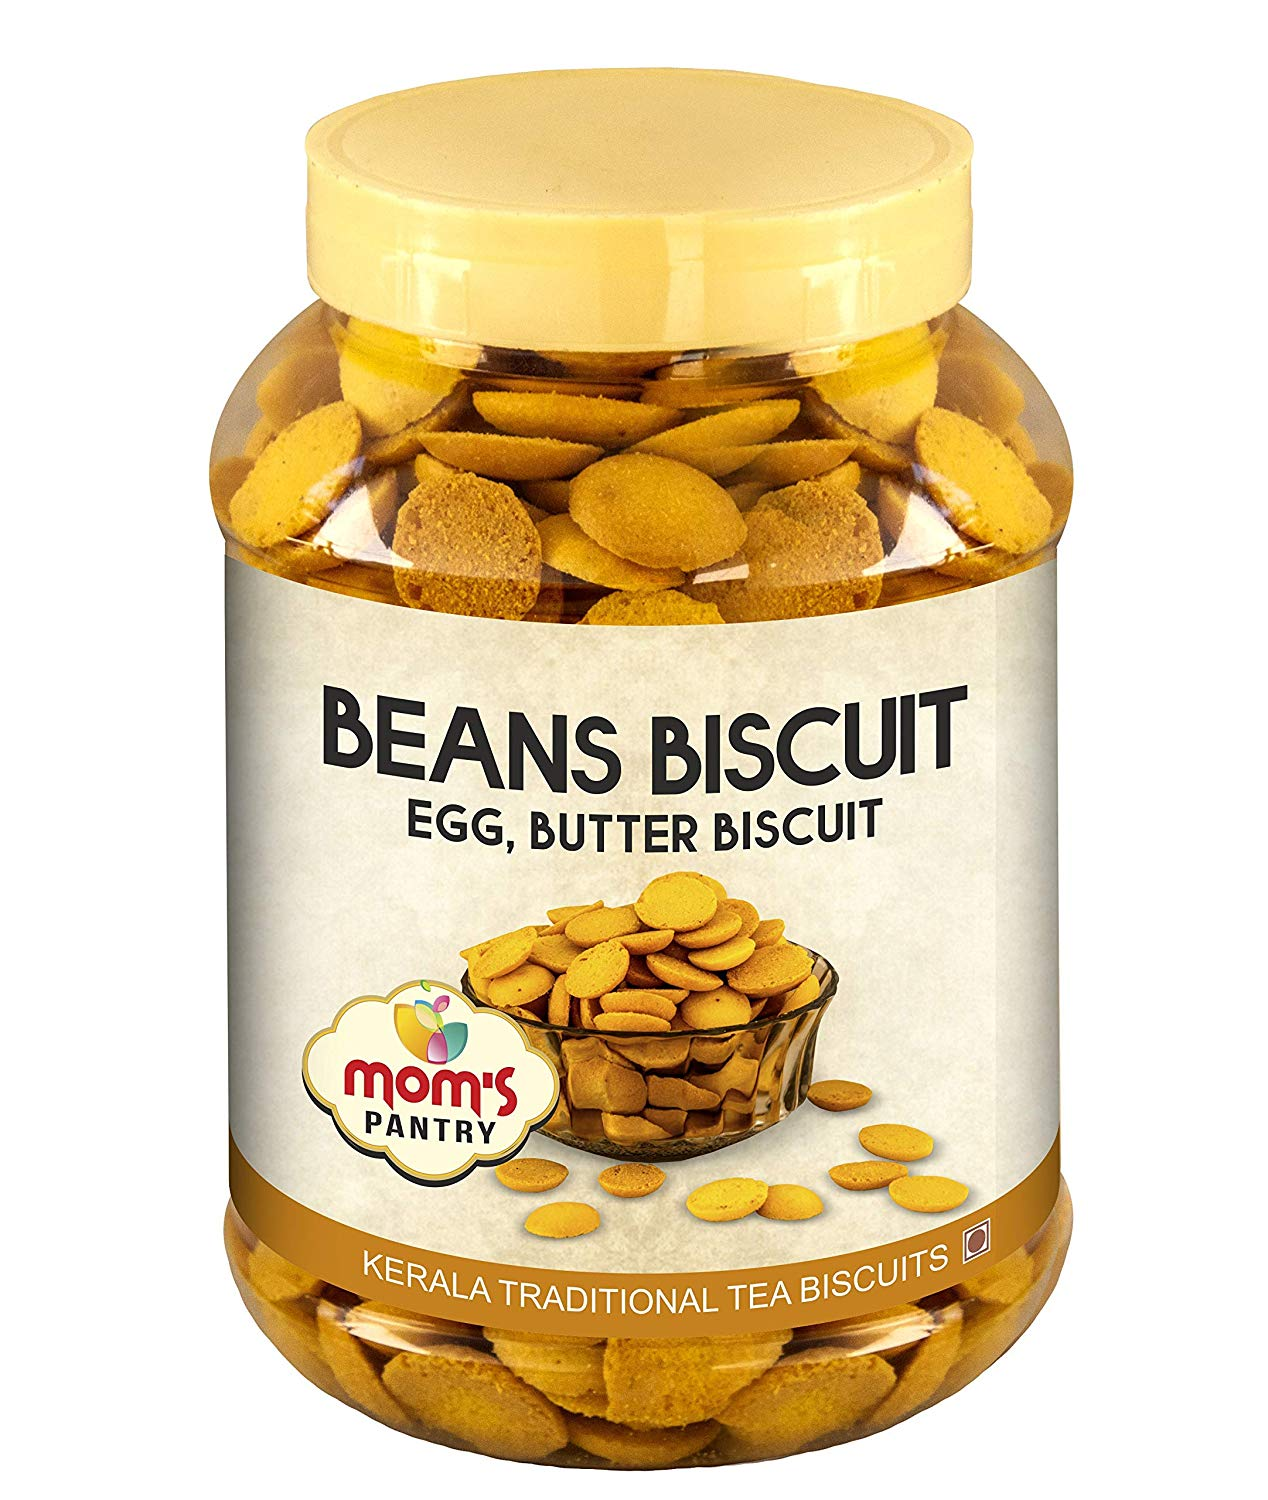nonveg_red: (964, 1218, 991, 1262)
